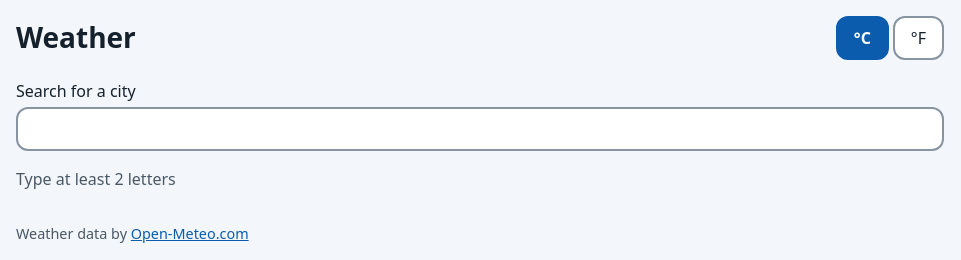
search results › says so when no place is found
Type "Atlantis" into the search field labelled "Search for a city" at x=480, y=129, box [16,107,944,151]
Wait 400 ms
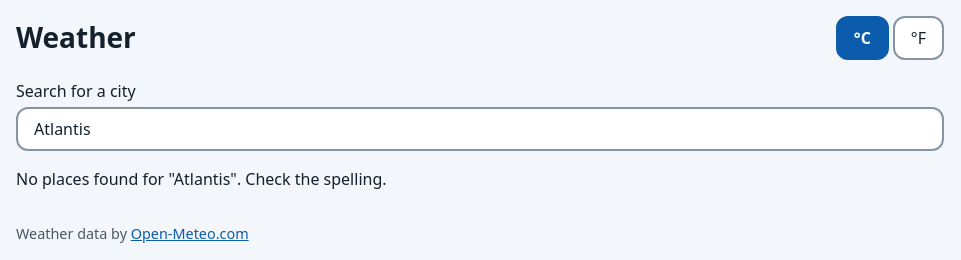
Check: the text "No places found for \"Atlantis\". Check the spelling." is shown, box [16,168,386,190]
